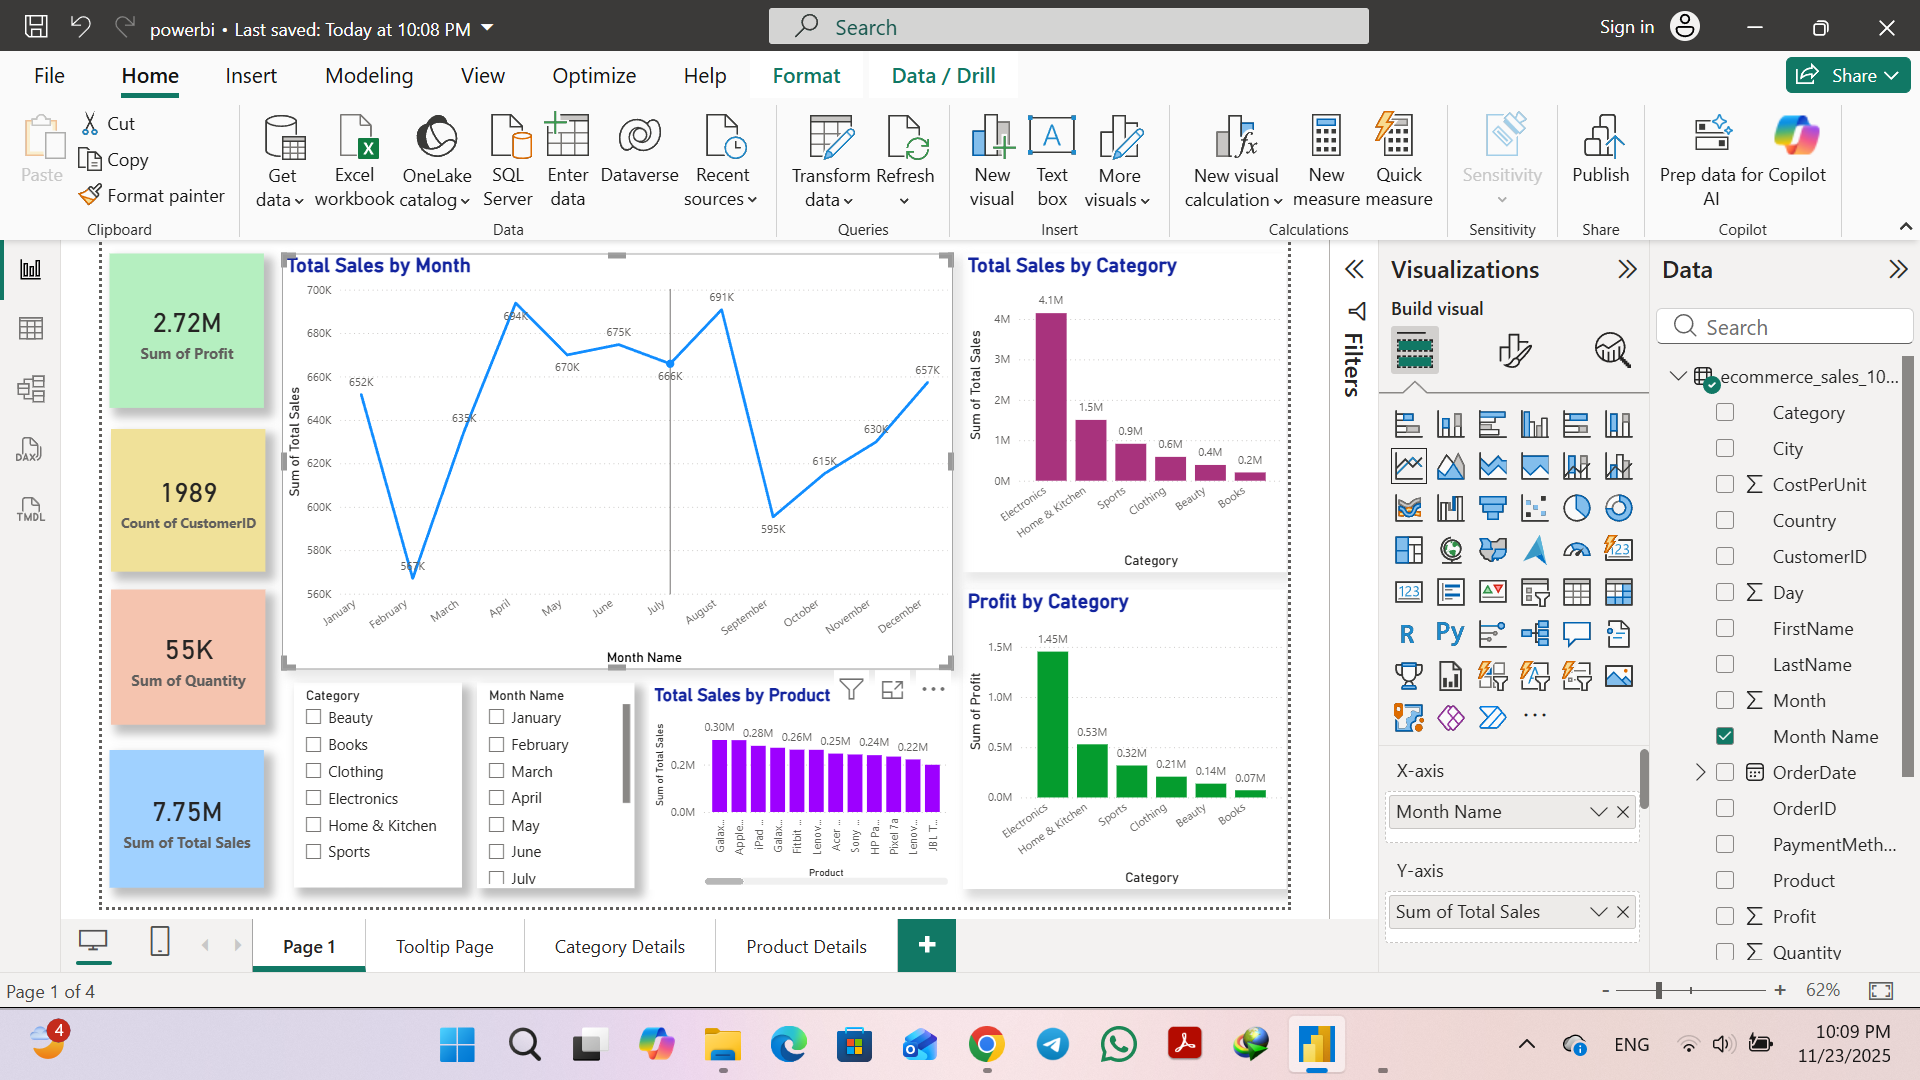

This screenshot's page, from the dashboard's own definition file:
{"tool":"powerbi","page":{"name":"Page 1","canvas":[1280,720],"ordinal":0},"visuals":[{"type":"card","fields":{"Values":["Sum(ecommerce_sales_10000rows.Profit)"]},"box":[8.1,14.6,166.8,166.8],"z":0},{"type":"card","fields":{"Values":["Count(ecommerce_sales_10000rows.CustomerID)"]},"box":[9.7,204,166.8,153.8],"z":1000},{"type":"card","fields":{"Values":["Sum(ecommerce_sales_10000rows.TotalSales)"]},"box":[8.1,550.5,166.8,149],"z":2000},{"type":"card","fields":{"Values":["Sum(ecommerce_sales_10000rows.Quantity)"]},"box":[9.7,377.3,166.8,145.7],"z":3000},{"type":"lineChart","title":"Total Sales by Month ","fields":{"Category":["ecommerce_sales_10000rows.Month Name"],"Y":["Sum(ecommerce_sales_10000rows.TotalSales)"]},"box":[194.6,15.1,723.8,447.9],"z":4000},{"type":"clusteredColumnChart","title":"Total Sales by Category","fields":{"Category":["ecommerce_sales_10000rows.Category"],"Y":["Sum(ecommerce_sales_10000rows.TotalSales)"]},"box":[929.8,15.1,349.6,343.9],"z":5000},{"type":"clusteredColumnChart","title":"Profit by Category","fields":{"Category":["ecommerce_sales_10000rows.Category"],"Y":["Sum(ecommerce_sales_10000rows.Profit)"]},"box":[929.8,378,349.6,323.2],"z":6000},{"type":"slicer","fields":{"Values":["ecommerce_sales_10000rows.Category"]},"box":[207.9,478.1,181.4,221.1],"z":7000},{"type":"slicer","fields":{"Values":["ecommerce_sales_10000rows.Month Name"]},"box":[404.8,477.7,170,221.8],"z":8000},{"type":"clusteredColumnChart","title":"Total Sales by Product","fields":{"Category":["ecommerce_sales_10000rows.Product"],"Y":["Sum(ecommerce_sales_10000rows.Total Sales)"]},"box":[591,479.3,327.1,221.8],"z":9000}]}

Visuals, with their boxes on the page's 1280x720 design canvas (x1, y1, x2, y2). These are canvas units, not pixel positions in the 1920x1080 screenshot, which may show the page scaled, cropped or inside an application window:
card - Sum(ecommerce_sales_10000rows.Profit): [8, 15, 175, 181]
card - Count(ecommerce_sales_10000rows.CustomerID): [10, 204, 176, 358]
card - Sum(ecommerce_sales_10000rows.TotalSales): [8, 550, 175, 700]
card - Sum(ecommerce_sales_10000rows.Quantity): [10, 377, 176, 523]
"Total Sales by Month " lineChart: [195, 15, 918, 463]
"Total Sales by Category" clusteredColumnChart: [930, 15, 1279, 359]
"Profit by Category" clusteredColumnChart: [930, 378, 1279, 701]
slicer - ecommerce_sales_10000rows.Category: [208, 478, 389, 699]
slicer - ecommerce_sales_10000rows.Month Name: [405, 478, 575, 700]
"Total Sales by Product" clusteredColumnChart: [591, 479, 918, 701]
